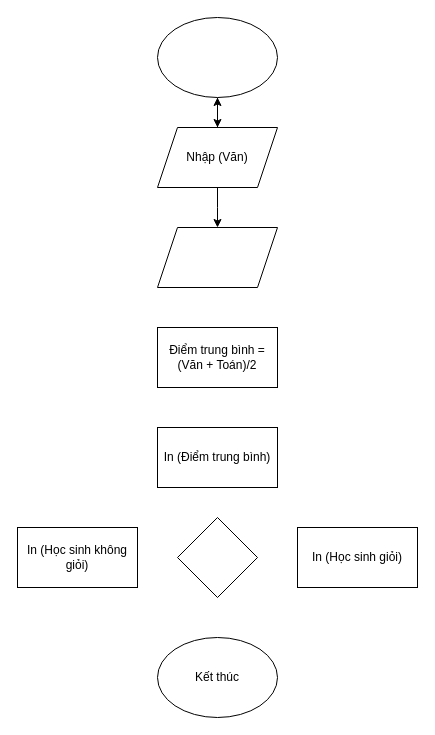
The diagram is 435 pixels wide and 735 high, and some of its shapes have lost their labels. Here are the shapes that lost their labels. From the top down, the box of each, then its label:
(156, 16, 278, 98): Bắt đầu
(156, 226, 278, 288): Nhập (Toán)
(176, 516, 258, 598): Điểm trung bình >8
